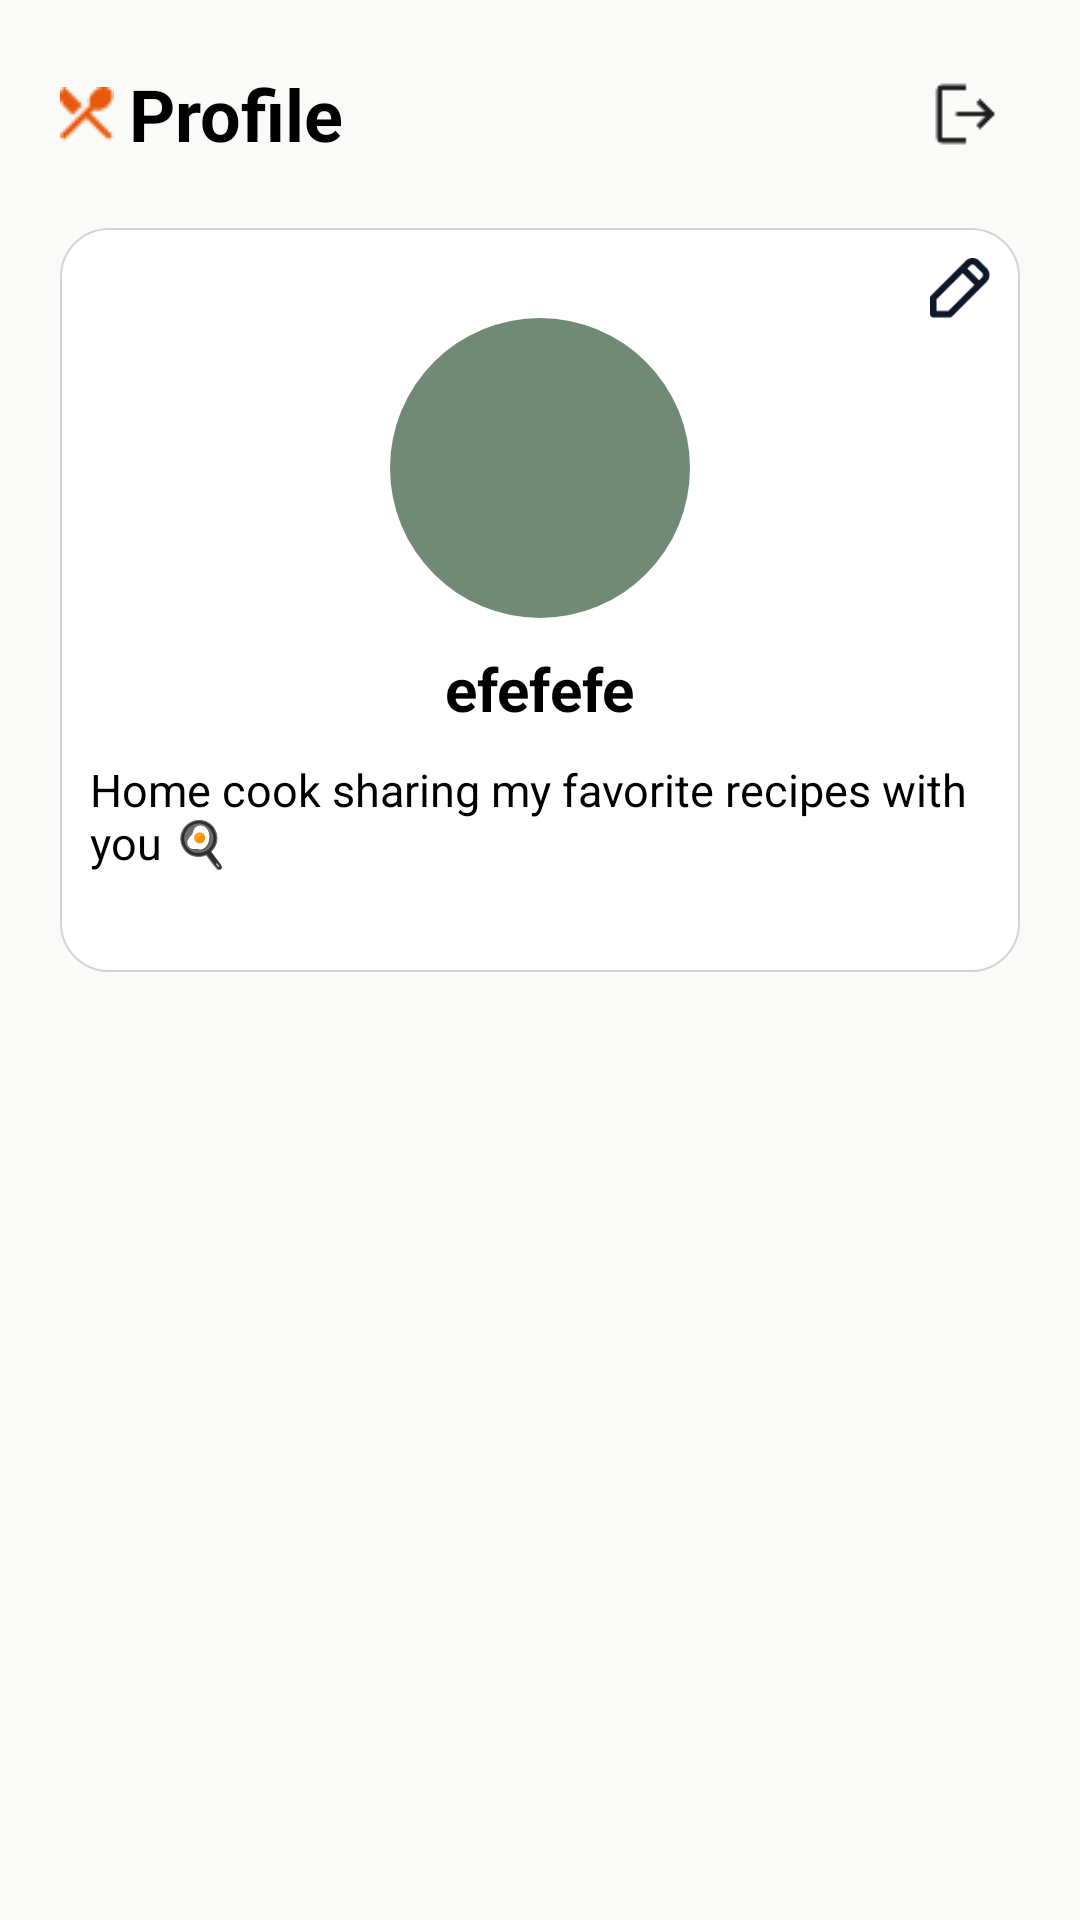

Where icons sit on this 1080 x 1920 app screen, as {"left": x1, "top": y1, "right": x2, "bottom": y2}:
edit: {"left": 930, "top": 258, "right": 990, "bottom": 318}
